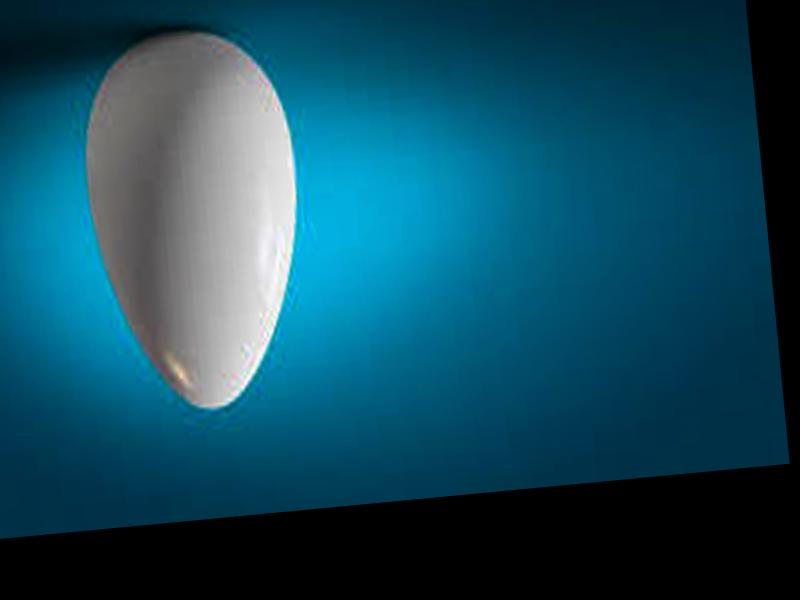Eggs: (71, 20, 317, 416)
